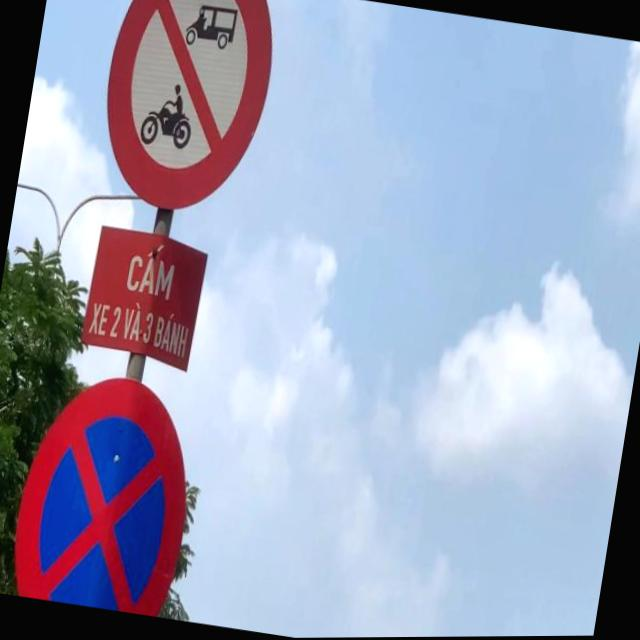Cam dung xe va do xe: (4, 361, 207, 620)
